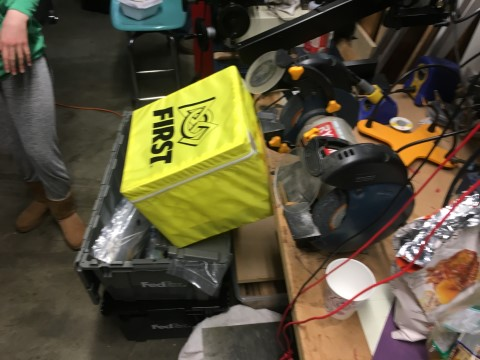cube: (118, 64, 277, 248)
